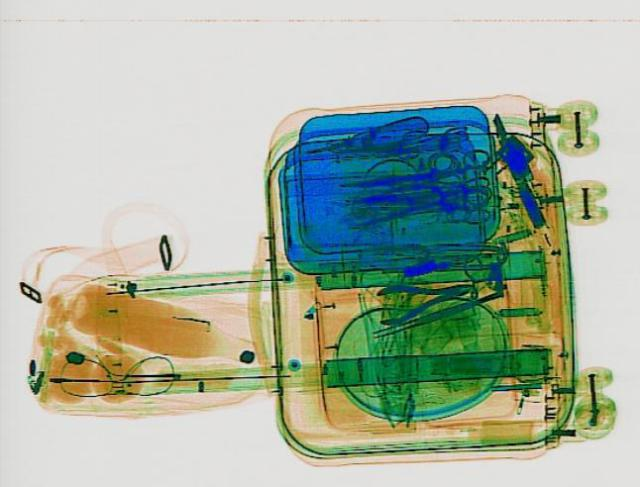Pliers: (364, 268, 476, 324)
